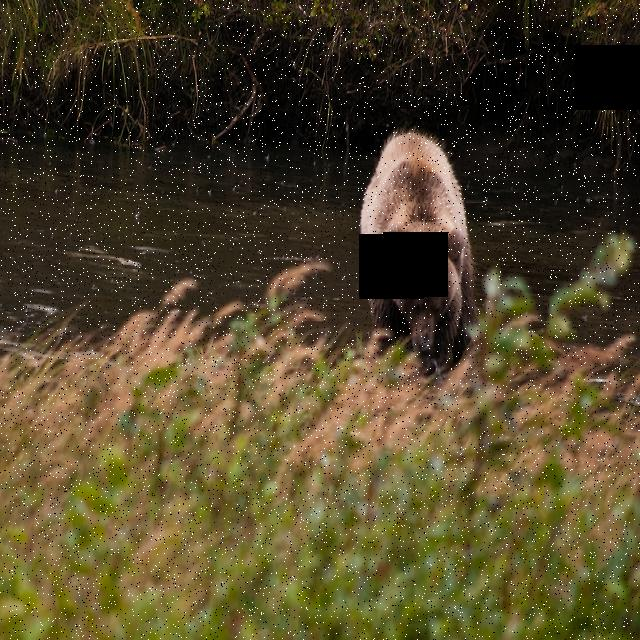Bear: (362, 116, 489, 368)
